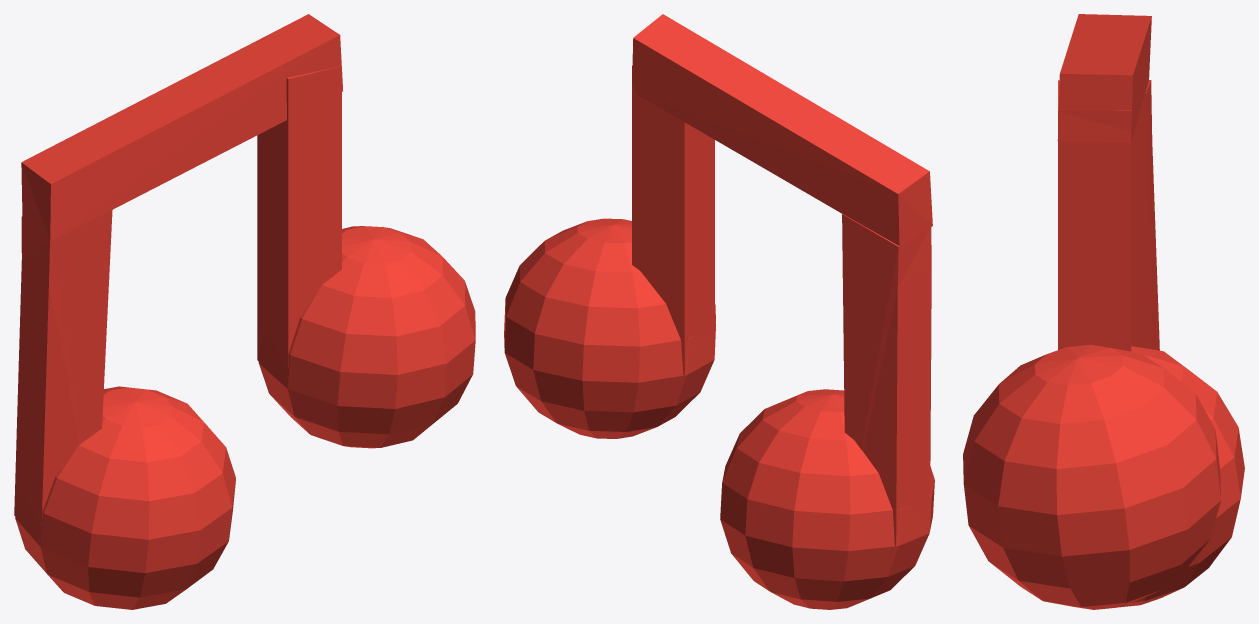
File: red_note_fbx.fbx
3 views of the same model, side by side, from view 1: azimuth 30°, elevation 25°; view 2: azimuth 150°, elevation 25°; view 3: azimuth 270°, elevation 25° (orthographic). The views are drawn at different scales.
Parts seen in each view (by area): view 1: mesh_1947562810, mesh_2141155923, mesh_38028735, mesh_444216313, mesh_1592007617; view 2: mesh_2141155923, mesh_1947562810, mesh_38028735, mesh_444216313, mesh_1592007617; view 3: mesh_2141155923, mesh_1592007617, mesh_38028735, mesh_444216313, mesh_1947562810.
Part boxes in pixels (x1,y1,x2,y2): mesh_1947562810: (15,386,235,609); mesh_2141155923: (258,226,475,448); mesh_38028735: (21,14,342,241); mesh_444216313: (14,210,112,532); mesh_1592007617: (257,66,341,374); mesh_2141155923: (504,218,715,438); mesh_1947562810: (720,389,934,609); mesh_38028735: (632,14,932,245); mesh_444216313: (842,214,931,545); mesh_1592007617: (632,65,714,375); mesh_2141155923: (963,344,1220,609); mesh_1592007617: (1058,80,1131,351); mesh_38028735: (1057,14,1151,142); mesh_444216313: (1131,80,1159,350); mesh_1947562810: (1119,346,1244,607).
Bounding box in the file's own units: 485 × 590 × 239.
